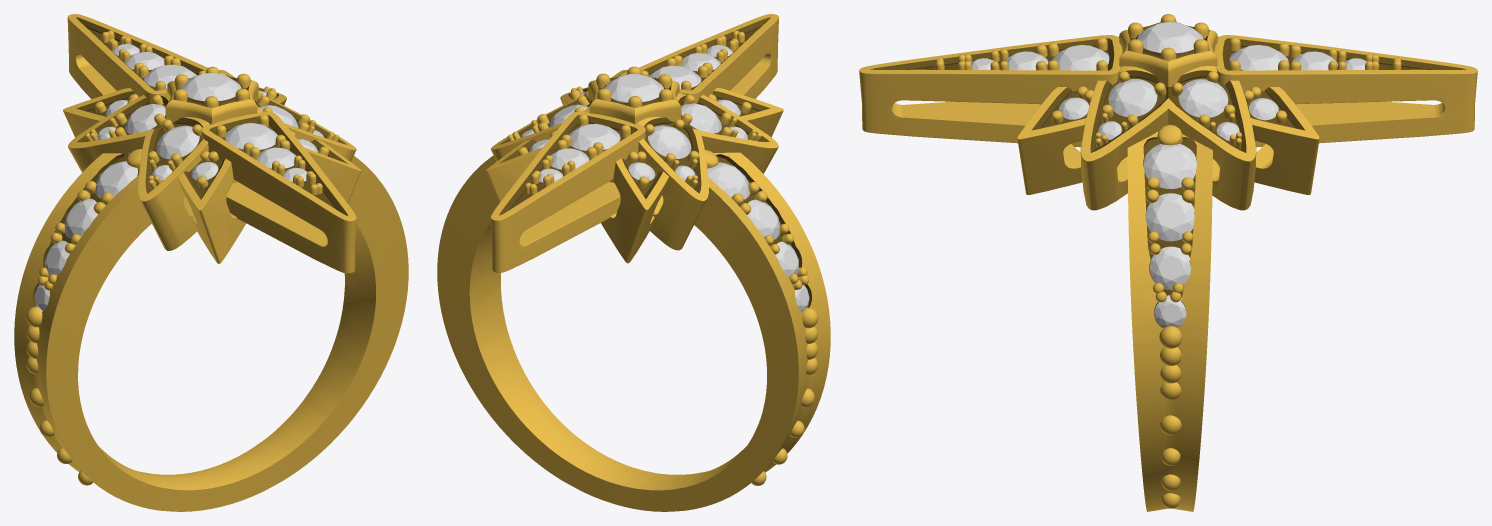
Rendered from Ring_B_ShadowParts.fbx.
The picture shows the model from 3 angles, left to right: view 1: azimuth 30°, elevation 25°; view 2: azimuth 150°, elevation 25°; view 3: azimuth 270°, elevation 25°; orthographic projection. The views are drawn at different scales.
Visible parts, largest first — view 1: Ring_B_ShadowParts_Object_01_Object, Ring_B_ShadowParts_Diamod_Object, Ring_B_ShadowParts_Object_02_Object, Ring_B_ShadowParts_Object; view 2: Ring_B_ShadowParts_Object_01_Object, Ring_B_ShadowParts_Diamod_Object, Ring_B_ShadowParts_Object_02_Object, Ring_B_ShadowParts_Object; view 3: Ring_B_ShadowParts_Object_01_Object, Ring_B_ShadowParts_Diamod_Object, Ring_B_ShadowParts_Object_02_Object, Ring_B_ShadowParts_Object.
Boxes of the visible parts, x1,y1,x2,y2 form: Ring_B_ShadowParts_Object_01_Object: (14, 14, 408, 511); Ring_B_ShadowParts_Diamod_Object: (34, 44, 324, 311); Ring_B_ShadowParts_Object_02_Object: (26, 30, 339, 485); Ring_B_ShadowParts_Object: (33, 17, 347, 306); Ring_B_ShadowParts_Object_01_Object: (437, 14, 830, 511); Ring_B_ShadowParts_Diamod_Object: (520, 45, 809, 311); Ring_B_ShadowParts_Object_02_Object: (507, 30, 818, 485); Ring_B_ShadowParts_Object: (499, 17, 811, 307); Ring_B_ShadowParts_Object_01_Object: (859, 22, 1477, 511); Ring_B_ShadowParts_Diamod_Object: (971, 22, 1366, 327); Ring_B_ShadowParts_Object_02_Object: (935, 14, 1401, 508); Ring_B_ShadowParts_Object: (870, 22, 1466, 328).
Bounding box in the file's own units: 2.13 × 2.32 × 2.83.
